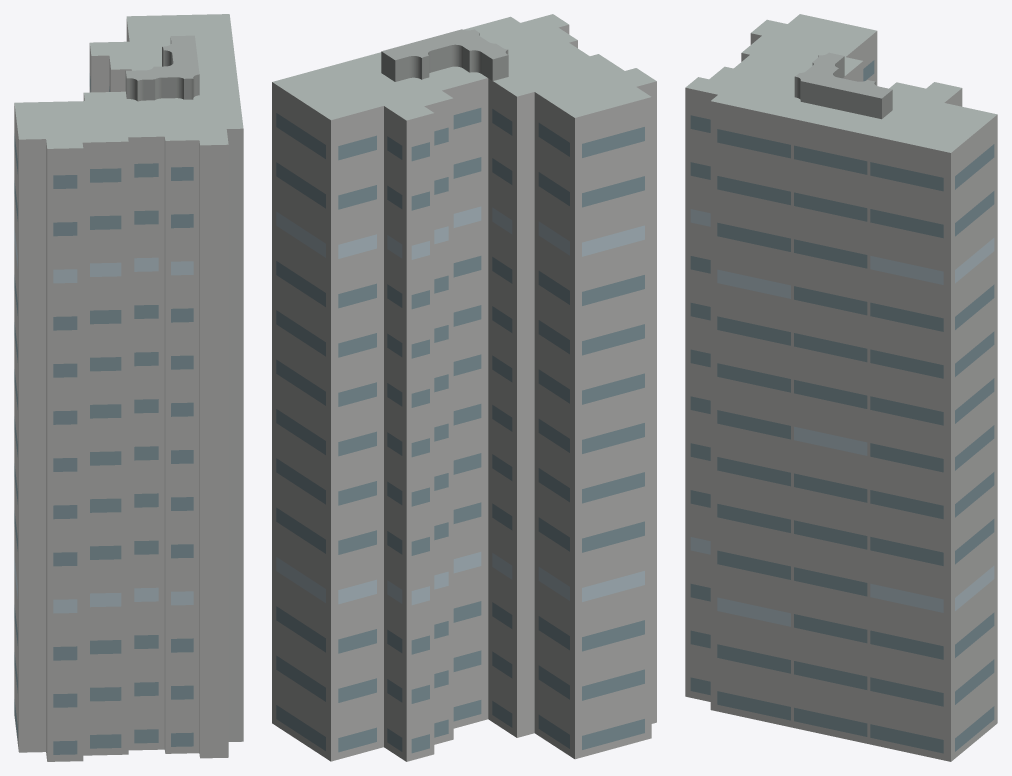
File: fallback-banpo-xi-131.glb
3 views of the same model, side by side, from view 1: azimuth 30°, elevation 25°; view 2: azimuth 150°, elevation 25°; view 3: azimuth 270°, elevation 25° (orthographic). The views are drawn at different scales.
Parts seen in each view (by area): view 1: fallback-banpo-xi-131; view 2: fallback-banpo-xi-131; view 3: fallback-banpo-xi-131.
Part boxes in pixels (box(x1,y1,x2,y2)): fallback-banpo-xi-131: box(14, 14, 243, 761); fallback-banpo-xi-131: box(272, 14, 656, 761); fallback-banpo-xi-131: box(685, 14, 997, 761).
Bounding box in the file's own units: 34.57 × 73 × 32.82.
